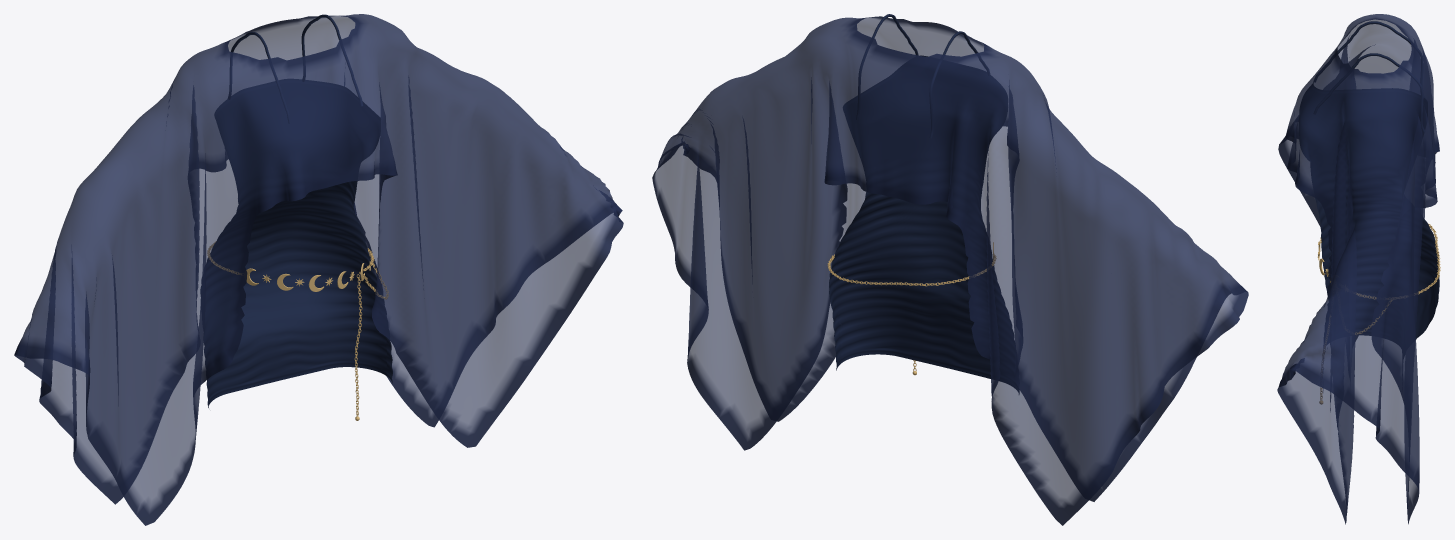
Rendered from vestido-capa-talla-XS.glb.
The picture shows the model from 3 angles, left to right: view 1: azimuth 30°, elevation 25°; view 2: azimuth 150°, elevation 25°; view 3: azimuth 270°, elevation 25°; orthographic projection. The views are drawn at different scales.
Visible parts, largest first — view 1: capa-malla, vestido-tirantes, cadena-lunas; view 2: capa-malla, vestido-tirantes; view 3: capa-malla, vestido-tirantes, tirante (×2), cadena.
Part boxes in pixels (bbox=[...]): capa-malla: bbox=[14, 14, 623, 525]; vestido-tirantes: bbox=[200, 79, 392, 407]; cadena-lunas: bbox=[246, 261, 370, 420]; capa-malla: bbox=[652, 16, 1248, 525]; vestido-tirantes: bbox=[829, 55, 1019, 394]; capa-malla: bbox=[1277, 14, 1439, 524]; vestido-tirantes: bbox=[1299, 82, 1439, 358]; tirante (×2): bbox=[1313, 21, 1425, 132]; cadena: bbox=[1356, 223, 1440, 299].
Bounding box in the file's own units: 1.27 × 0.9268 × 0.3294.
